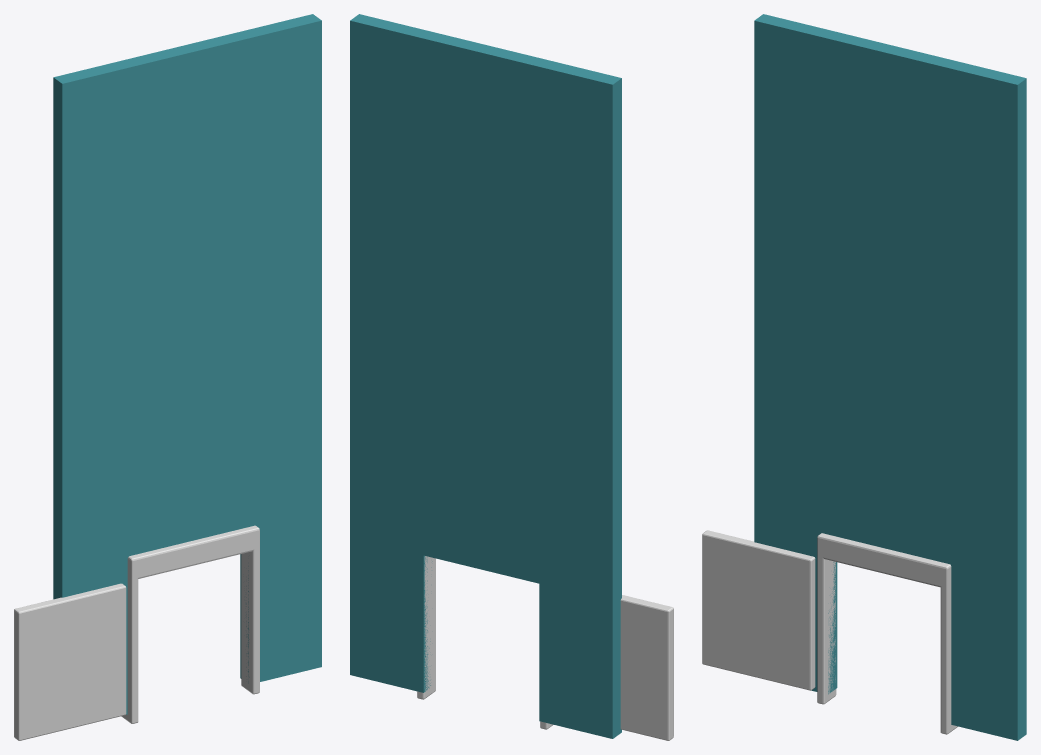
Rendered from env_tower_wall_door_5m_top3d.glb.
3 views of the same model, side by side, from view 1: azimuth 30°, elevation 25°; view 2: azimuth 150°, elevation 25°; view 3: azimuth 330°, elevation 25° (orthographic).
Visible parts, largest first — view 1: MOD_WALL_DOOR_5M_U01_Lintel, MOD_WALL_DOOR_5M_U01_Pier_R, MOD_WALL_DOOR_5M_U01_Pier_L, MOD_WALL_DOOR_5M_U01_DoorLeaf_OPEN, MOD_WALL_DOOR_5M_U01_Frame_Top, MOD_WALL_DOOR_5M_U01_Frame_R, MOD_WALL_DOOR_5M_U01_Frame_L; view 2: MOD_WALL_DOOR_5M_U01_Lintel, MOD_WALL_DOOR_5M_U01_Pier_L, MOD_WALL_DOOR_5M_U01_Pier_R, MOD_WALL_DOOR_5M_U01_DoorLeaf_OPEN, MOD_WALL_DOOR_5M_U01_Frame_R; view 3: MOD_WALL_DOOR_5M_U01_Lintel, MOD_WALL_DOOR_5M_U01_Pier_R, MOD_WALL_DOOR_5M_U01_Pier_L, MOD_WALL_DOOR_5M_U01_DoorLeaf_OPEN, MOD_WALL_DOOR_5M_U01_Frame_Top, MOD_WALL_DOOR_5M_U01_Frame_L, MOD_WALL_DOOR_5M_U01_Frame_R.
Part boxes in pixels (left/top/right/bottom): MOD_WALL_DOOR_5M_U01_Lintel: left=126, top=32, right=249, bottom=554; MOD_WALL_DOOR_5M_U01_Pier_R: left=240, top=14, right=321, bottom=683; MOD_WALL_DOOR_5M_U01_Pier_L: left=53, top=59, right=134, bottom=714; MOD_WALL_DOOR_5M_U01_DoorLeaf_OPEN: left=14, top=583, right=126, bottom=740; MOD_WALL_DOOR_5M_U01_Frame_Top: left=127, top=525, right=259, bottom=579; MOD_WALL_DOOR_5M_U01_Frame_R: left=241, top=541, right=259, bottom=694; MOD_WALL_DOOR_5M_U01_Frame_L: left=121, top=570, right=138, bottom=723; MOD_WALL_DOOR_5M_U01_Lintel: left=423, top=32, right=547, bottom=583; MOD_WALL_DOOR_5M_U01_Pier_L: left=539, top=60, right=621, bottom=738; MOD_WALL_DOOR_5M_U01_Pier_R: left=350, top=14, right=432, bottom=692; MOD_WALL_DOOR_5M_U01_DoorLeaf_OPEN: left=620, top=595, right=673, bottom=740; MOD_WALL_DOOR_5M_U01_Frame_R: left=417, top=556, right=435, bottom=699; MOD_WALL_DOOR_5M_U01_Lintel: left=828, top=32, right=952, bottom=562; MOD_WALL_DOOR_5M_U01_Pier_R: left=944, top=60, right=1026, bottom=740; MOD_WALL_DOOR_5M_U01_Pier_L: left=754, top=14, right=837, bottom=694; MOD_WALL_DOOR_5M_U01_DoorLeaf_OPEN: left=702, top=530, right=815, bottom=690; MOD_WALL_DOOR_5M_U01_Frame_Top: left=817, top=533, right=951, bottom=587; MOD_WALL_DOOR_5M_U01_Frame_L: left=817, top=549, right=836, bottom=704; MOD_WALL_DOOR_5M_U01_Frame_R: left=940, top=578, right=957, bottom=734.
Size of the model in its own units: 5.92 by 12.04 by 0.44.
